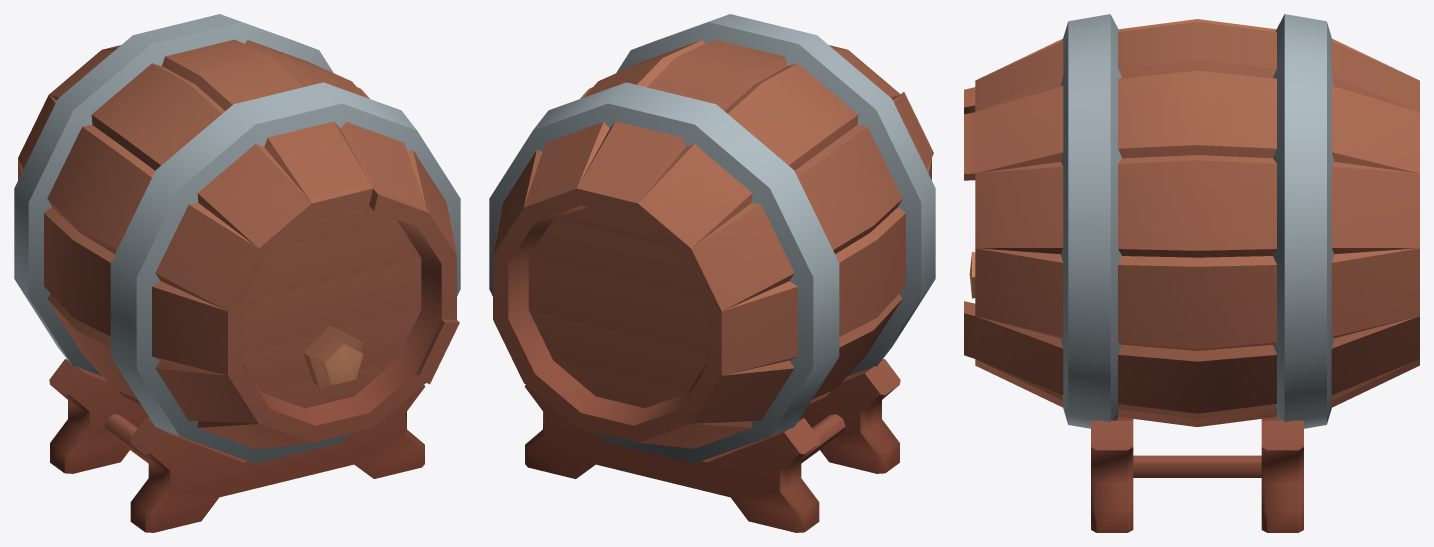
File: keg.glb
3 renders of one model, left to right at view 1: azimuth 30°, elevation 25°; view 2: azimuth 150°, elevation 25°; view 3: azimuth 270°, elevation 25°, orthographic. The views are drawn at different scales.
Parts seen in each view (by area): view 1: keg; view 2: keg; view 3: keg.
Part boxes in pixels (box(x1,y1,x2,y2)): keg: box(14, 14, 460, 532); keg: box(489, 14, 935, 532); keg: box(964, 14, 1419, 532).
Size of the model in its own units: 1.8 by 2.05 by 2.
1 material, 1 textured.
